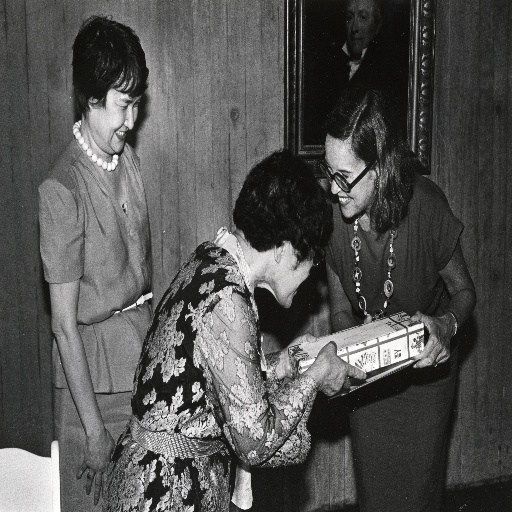hand: (306, 339, 366, 398), (74, 429, 115, 506), (414, 308, 457, 373), (282, 330, 317, 379), (363, 313, 373, 323)
